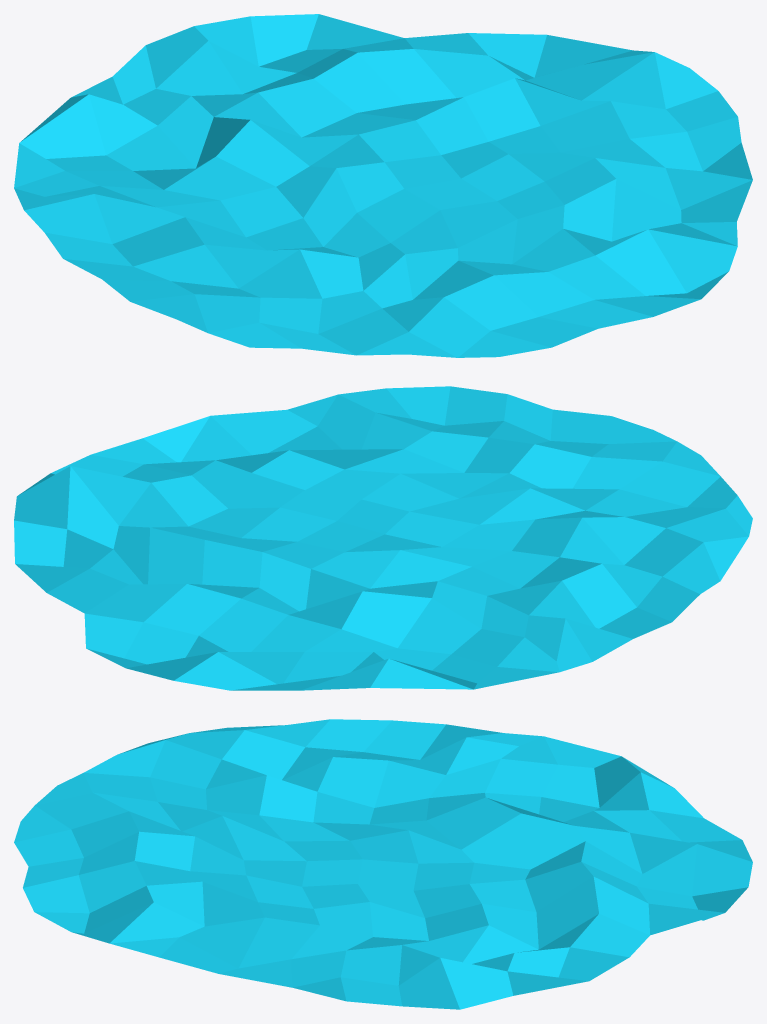
File: AGUA.FBX
3 views of the same model, one above another, from view 1: azimuth 30°, elevation 25°; view 2: azimuth 150°, elevation 25°; view 3: azimuth 270°, elevation 25° (orthographic). The views are drawn at different scales.
Visible parts, largest first — view 1: lago; view 2: lago; view 3: lago.
Boxes of the visible parts, bbox=[...] form: lago: bbox=[14, 14, 752, 357]; lago: bbox=[14, 386, 752, 690]; lago: bbox=[14, 719, 752, 1009].
Size of the model in its own units: 158 by 13.44 by 170.
